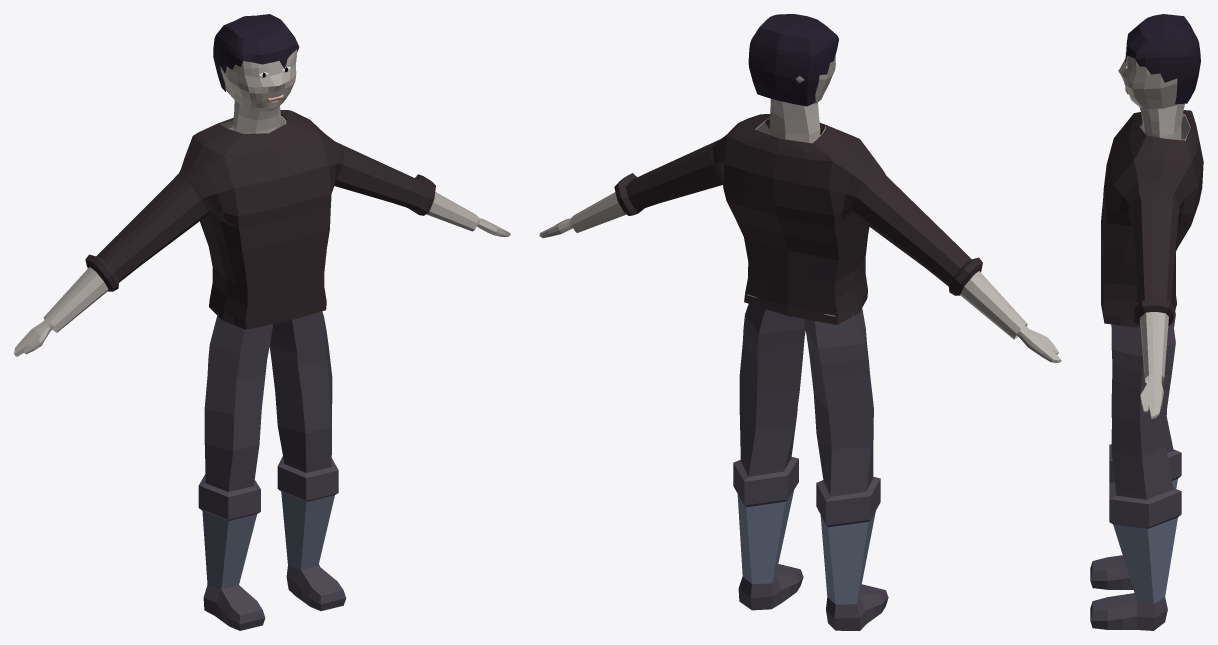
The model's file is CharacterDeneme.fbx.
The picture shows the model from 3 angles, left to right: view 1: azimuth 30°, elevation 25°; view 2: azimuth 150°, elevation 25°; view 3: azimuth 270°, elevation 25°; orthographic projection. The views are drawn at different scales.
Visible parts, largest first — view 1: Cube.005, Cylinder, Cube.003, Cube, Cube.002, Cube.004, Cube.001; view 2: Cube.005, Cylinder, Cube.003, Cube, Cube.004, Cube.001; view 3: Cylinder, Cube.005, Cube.003, Cube.002, Cube, Cube.004, Cube.001.
Part boxes in pixels (x1,y1,x2,y2): Cube.005: [85, 110, 435, 329]; Cylinder: [198, 311, 346, 630]; Cube.003: [213, 14, 299, 91]; Cube: [43, 115, 478, 332]; Cube.002: [220, 49, 297, 111]; Cube.004: [233, 100, 281, 133]; Cube.001: [14, 218, 510, 356]; Cube.005: [614, 114, 982, 324]; Cylinder: [733, 304, 888, 630]; Cube.003: [748, 14, 838, 106]; Cube: [570, 118, 1027, 339]; Cube.004: [769, 98, 820, 143]; Cube.001: [539, 218, 1061, 362]; Cylinder: [1090, 311, 1181, 630]; Cube.005: [1101, 110, 1203, 327]; Cube.003: [1125, 14, 1200, 104]; Cube.002: [1118, 55, 1179, 108]; Cube: [1140, 114, 1190, 383]; Cube.004: [1139, 103, 1184, 140]; Cube.001: [1140, 374, 1163, 418].
Bounding box in the file's own units: 1071 × 1174 × 209.
